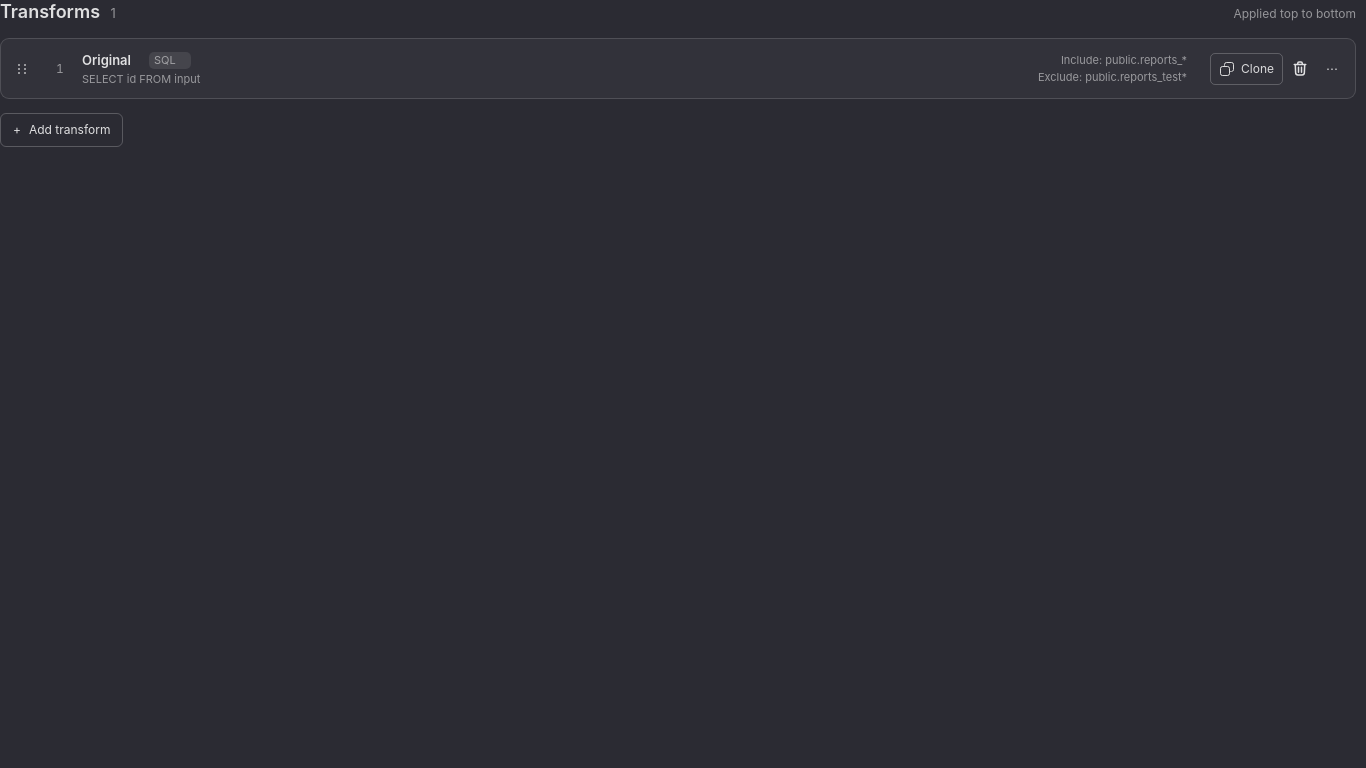
ordered transform strips › discards a draft name on Cancel
Click the button named "Actions for transform 1" at (1332, 69), box [1317,53,1347,85]
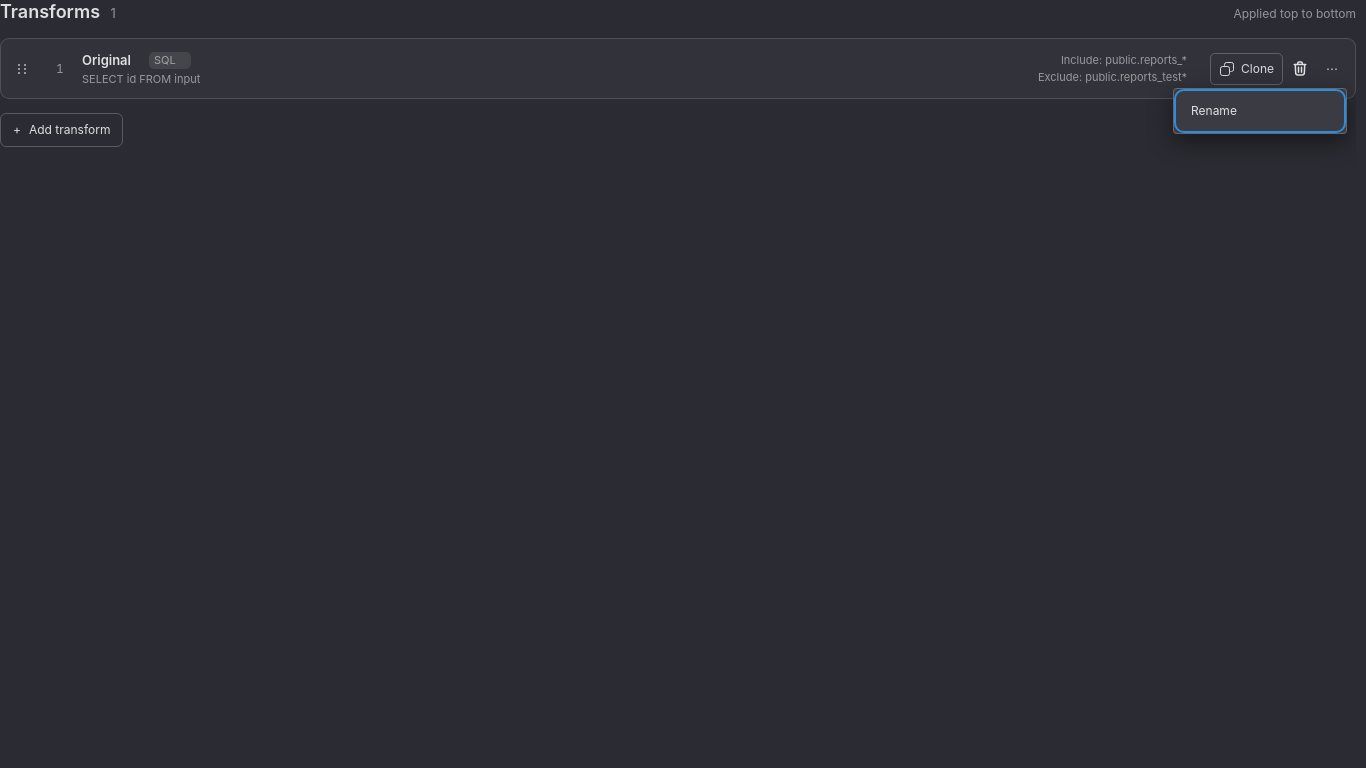
Click the menu item "Rename" at (1260, 111), box [1178,93,1342,129]
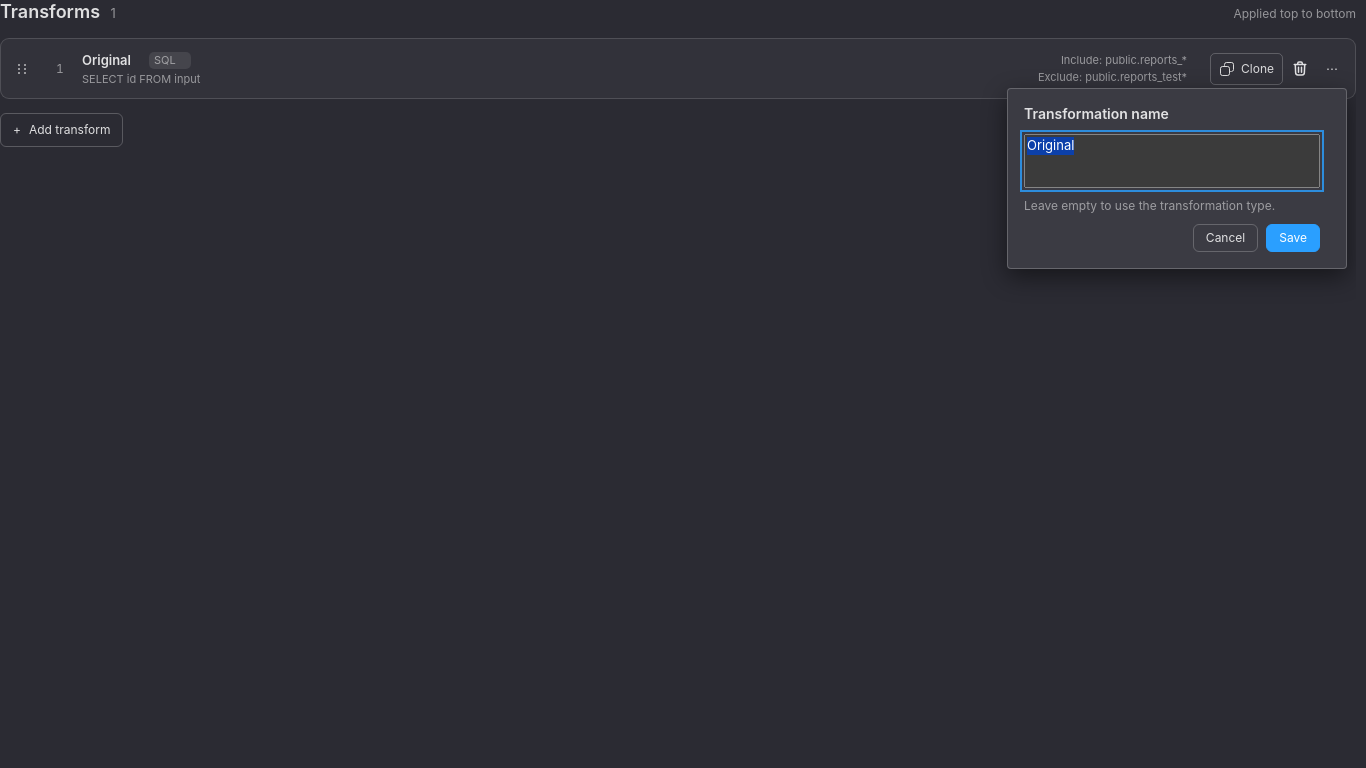
Replace the text in the text box labelled "Transformation name" with "Unsaved" at (1172, 161), box [1024,134,1320,188]
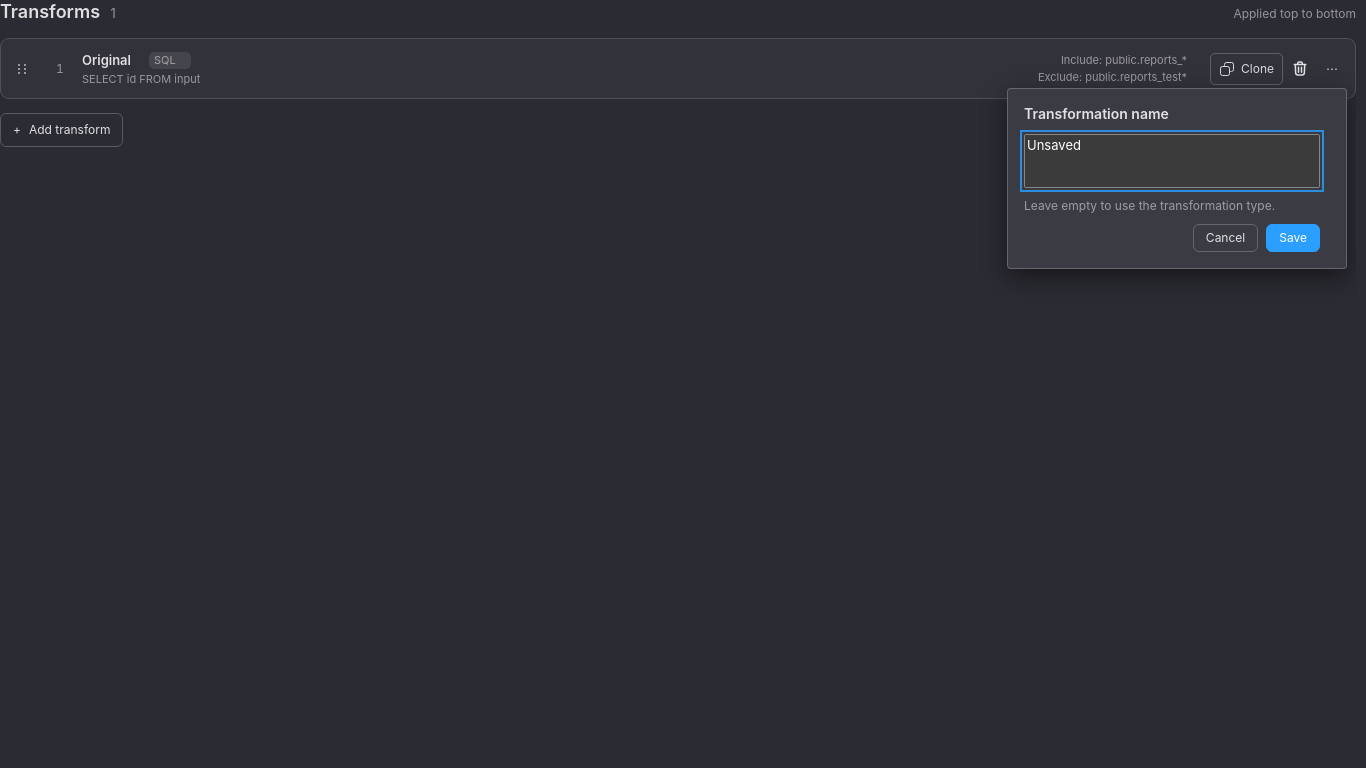
Click the button "Cancel" at (1226, 238), box [1193,224,1258,252]
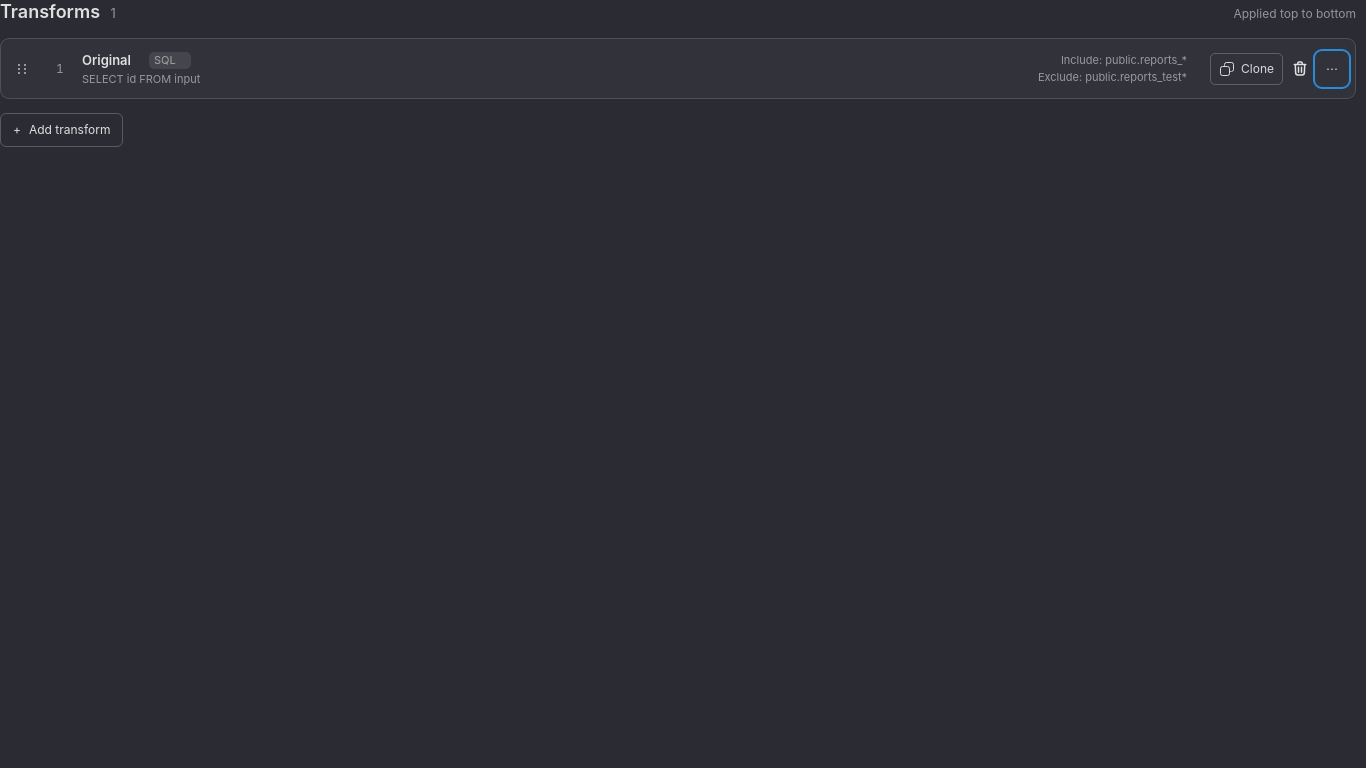
Now the dialog is gone
